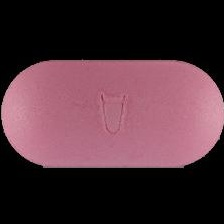63187-729: (0, 0, 224, 224)
